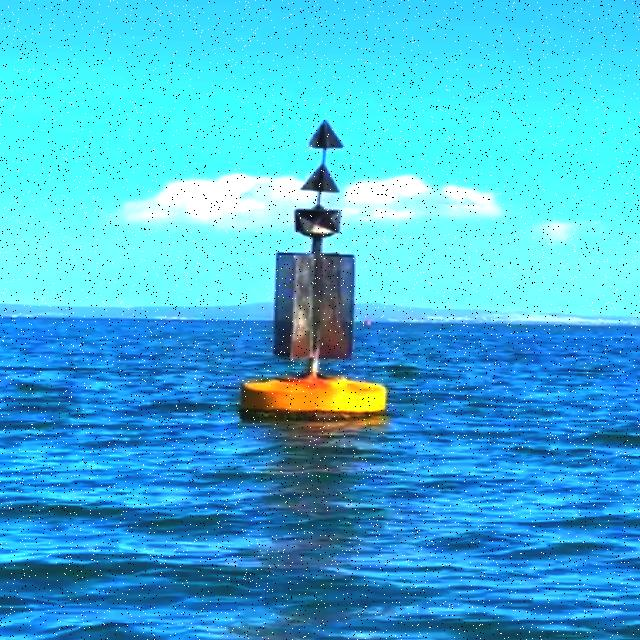marque: (251, 122, 390, 425)
